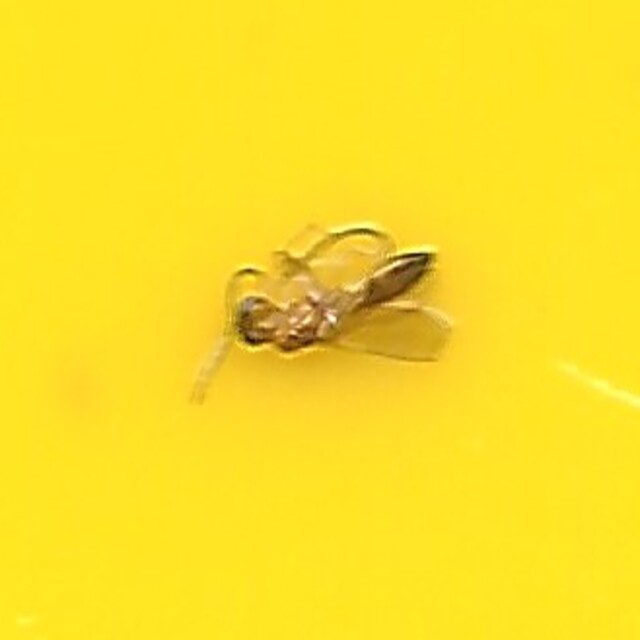Hymenoptera: (195, 226, 445, 414)
